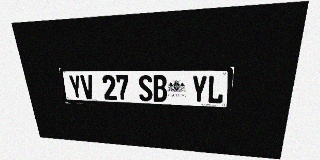2: (102, 75, 117, 100)
7: (115, 75, 130, 101)
B: (152, 75, 167, 102)
L: (207, 75, 225, 104)
S: (138, 75, 153, 101)
V: (80, 75, 95, 99)
Y: (191, 75, 207, 103), (68, 75, 83, 99)
